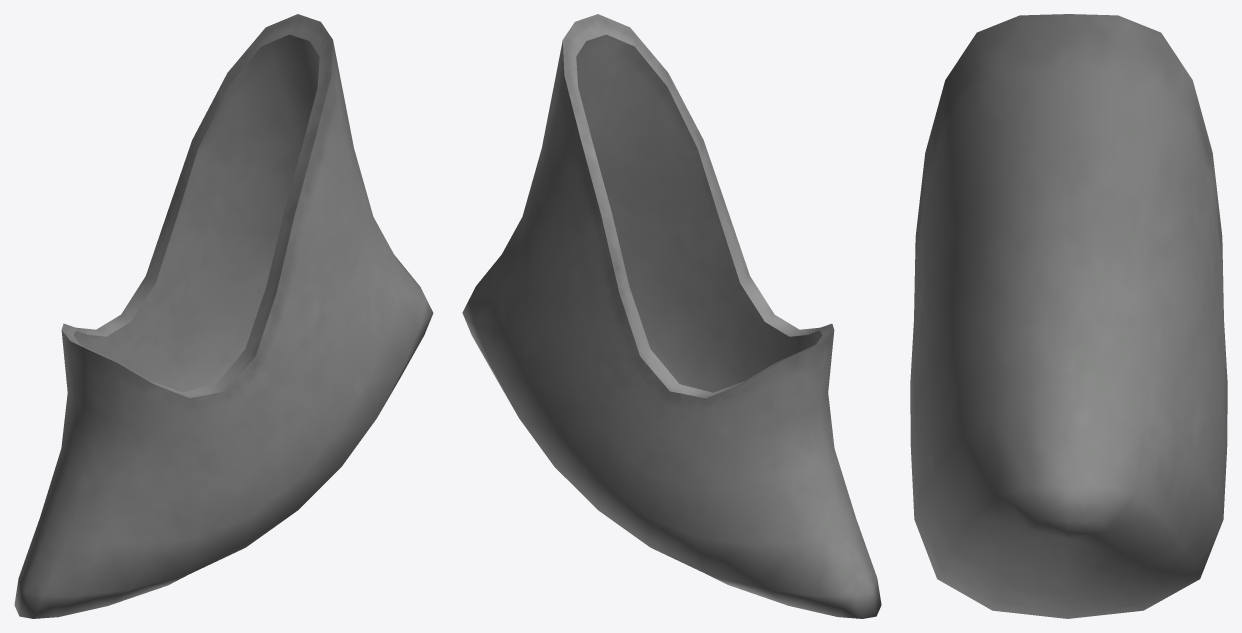
Rendered from wm_rivendell_sword_a02_silver_pommel.fbx.
3 renders of one model, left to right at view 1: azimuth 30°, elevation 25°; view 2: azimuth 150°, elevation 25°; view 3: azimuth 270°, elevation 25°, orthographic. The views are drawn at different scales.
Parts seen in each view (by area): view 1: wm_rivendell_sword_a02_silver_pommel; view 2: wm_rivendell_sword_a02_silver_pommel; view 3: wm_rivendell_sword_a02_silver_pommel.
Part boxes in pixels (x1=…): wm_rivendell_sword_a02_silver_pommel: x1=14, y1=14, x2=433, y2=618; wm_rivendell_sword_a02_silver_pommel: x1=462, y1=14, x2=881, y2=618; wm_rivendell_sword_a02_silver_pommel: x1=910, y1=14, x2=1227, y2=618.
Size of the model in its own units: 0.0529 by 0.0253 by 0.0647.
1 material, 1 textured.
